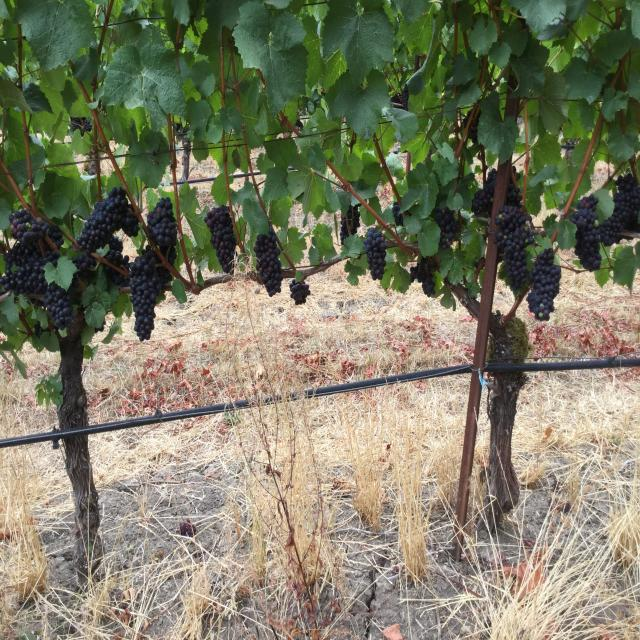grapes: (76, 187, 139, 253), (495, 207, 534, 292), (0, 243, 59, 295), (130, 247, 162, 342), (600, 173, 640, 247), (528, 248, 561, 320), (571, 195, 601, 272), (204, 205, 236, 273), (254, 227, 282, 297), (148, 198, 178, 248), (44, 282, 74, 330), (471, 168, 498, 217), (364, 227, 388, 280), (410, 257, 435, 297), (435, 207, 459, 248), (289, 280, 311, 305), (506, 183, 521, 207)
